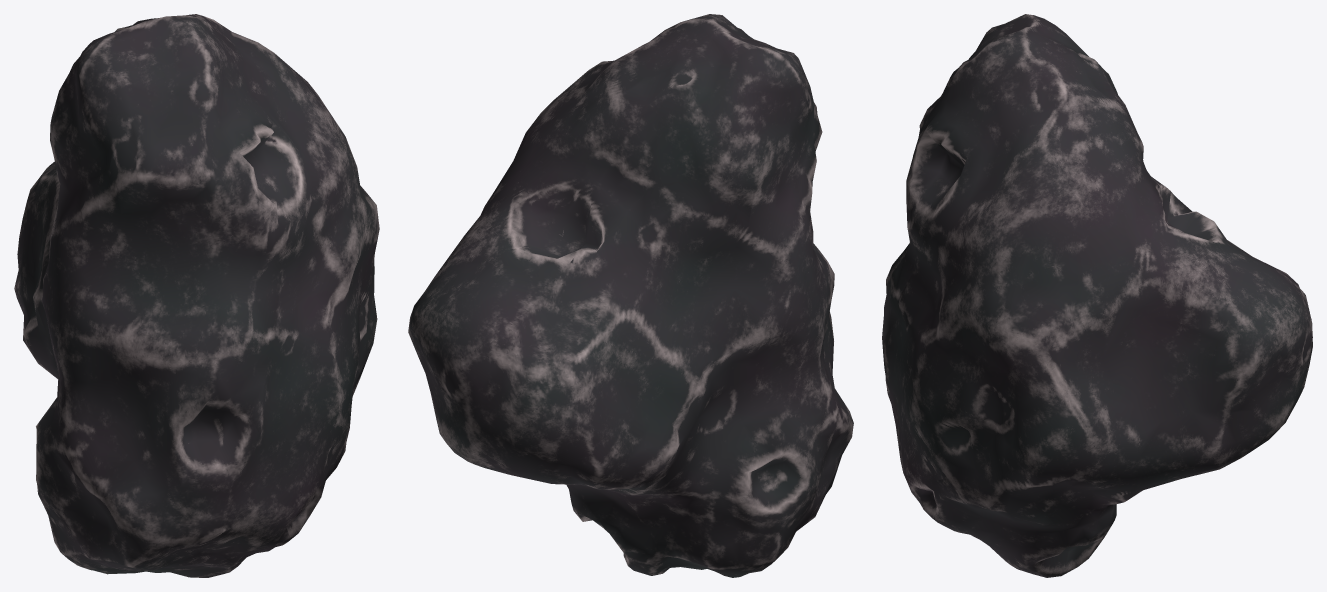
3 renders of one model, left to right at view 1: azimuth 30°, elevation 25°; view 2: azimuth 150°, elevation 25°; view 3: azimuth 270°, elevation 25°, orthographic. The views are drawn at different scales.
Visible parts, largest first — view 1: 1.001; view 2: 1.001; view 3: 1.001.
Boxes of the visible parts, left/top/right/bottom form: 1.001: left=14, top=14, right=379, bottom=577; 1.001: left=408, top=14, right=853, bottom=577; 1.001: left=882, top=14, right=1312, bottom=577.
Size of the model in its own units: 6.35 by 10.36 by 7.73.
1 material, 1 textured.
